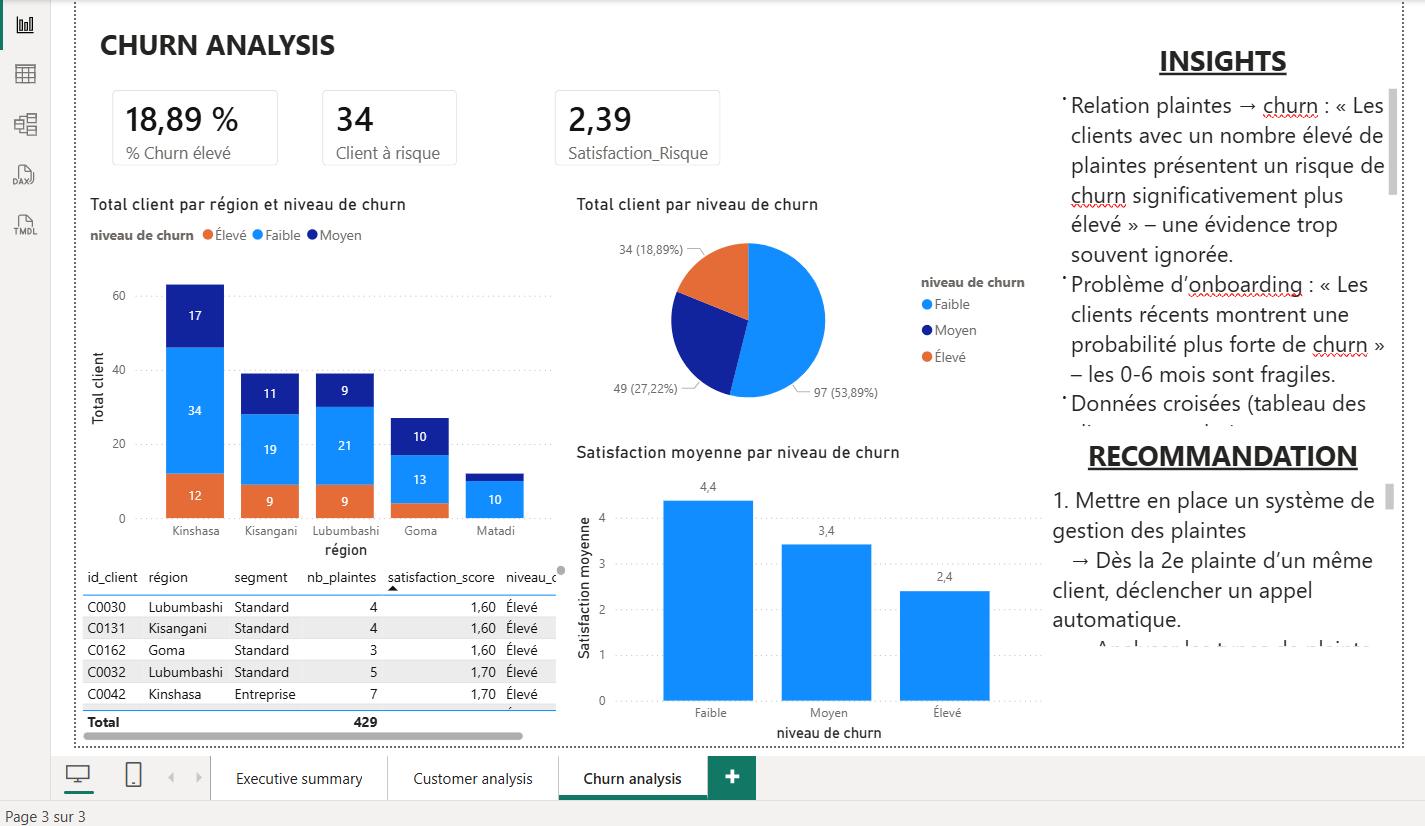

The page's visual inventory and layout, read from the dashboard file:
{"tool":"powerbi","page":{"name":"Churn analysis","canvas":[1280,720],"ordinal":2},"visuals":[{"type":"cardVisual","fields":{"Data":["Clients.Churn_eleve"]},"box":[18.1,70,194.2,107.4],"z":0},{"type":"textbox","box":[17.8,19.2,318.4,50.8],"z":1},{"type":"cardVisual","fields":{"Data":["Clients.Client_Risque"]},"box":[220.8,70,164.1,107.4],"z":2},{"type":"cardVisual","fields":{"Data":["Clients.Satisfaction_Risque"]},"box":[445.2,70,194.2,107.4],"z":3},{"type":"pieChart","fields":{"Category":["Clients.niveau_churn"],"Y":["Clients.Total_client"]},"box":[477.8,187,459.7,225.6],"z":4},{"type":"columnChart","fields":{"Category":["Clients.région"],"Y":["Clients.Total_client"],"Series":["Clients.niveau_churn"]},"box":[8.2,186.6,459.7,356.8],"z":5},{"type":"columnChart","fields":{"Category":["Clients.niveau_churn"],"Y":["Clients.Satisfaction_moyenne"]},"box":[477.8,425.9,459.7,294.4],"z":6},{"type":"tableEx","fields":{"Values":["Clients.id_client","Clients.région","Clients.segment","Clients.nb_plaintes","Clients.satisfaction_score","Clients.niveau_churn"]},"box":[0,540.7,477.5,179.8],"z":7},{"type":"textbox","box":[937.4,80.8,342.6,335.4],"z":8},{"type":"textbox","box":[937.4,35,339,45.8],"z":9},{"type":"textbox","box":[937.4,416.2,339,45.8],"z":10},{"type":"textbox","box":[937.4,462.1,339,166.5],"z":11},{"type":"pageNavigator","box":[1000.1,652.7,250.9,49.5],"z":12}]}

Visuals, with their boxes on the page's 1280x720 design canvas (x1, y1, x2, y2). These are canvas units, not pixel positions in the 1425x826 screenshot, which may show the page scaled, cropped or inside an application window:
cardVisual - Clients.Churn_eleve: [x1=18, y1=70, x2=212, y2=177]
textbox: [x1=18, y1=19, x2=336, y2=70]
cardVisual - Clients.Client_Risque: [x1=221, y1=70, x2=385, y2=177]
cardVisual - Clients.Satisfaction_Risque: [x1=445, y1=70, x2=639, y2=177]
pieChart - Clients.niveau_churn x Clients.Total_client: [x1=478, y1=187, x2=938, y2=413]
columnChart - Clients.région x Clients.Total_client: [x1=8, y1=187, x2=468, y2=543]
columnChart - Clients.niveau_churn x Clients.Satisfaction_moyenne: [x1=478, y1=426, x2=938, y2=720]
tableEx - Clients.id_client x Clients.région: [x1=0, y1=541, x2=478, y2=720]
textbox: [x1=937, y1=81, x2=1280, y2=416]
textbox: [x1=937, y1=35, x2=1276, y2=81]
textbox: [x1=937, y1=416, x2=1276, y2=462]
textbox: [x1=937, y1=462, x2=1276, y2=629]
pageNavigator: [x1=1000, y1=653, x2=1251, y2=702]
